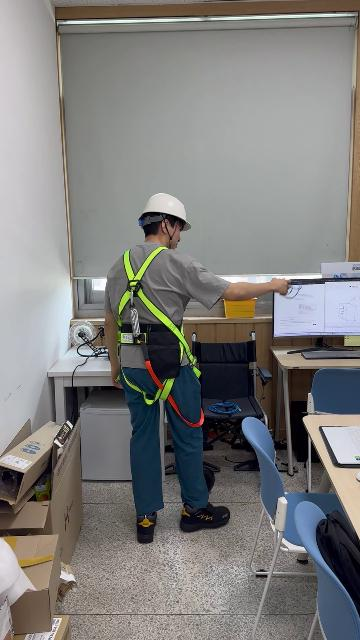helmet_worn: (137, 192, 193, 233)
shoe_worn: (181, 501, 229, 532), (136, 511, 156, 543)
vest_worn: (117, 249, 204, 398)
